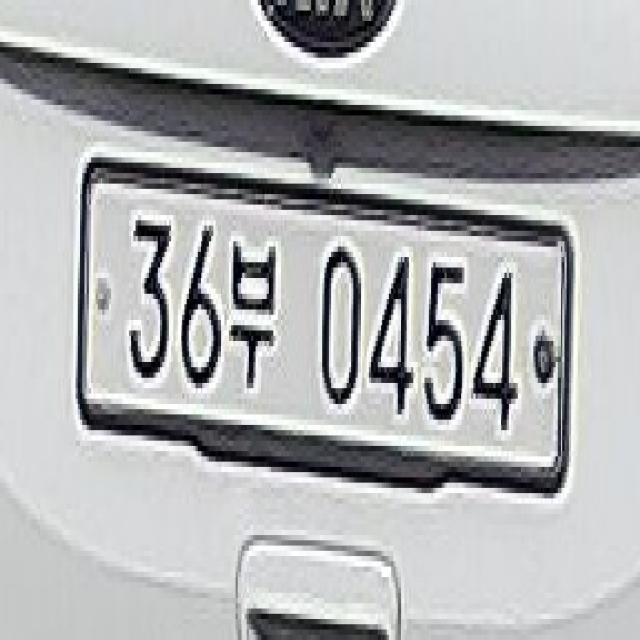0: (318, 241, 364, 404)
3: (129, 210, 173, 378)
4: (469, 268, 518, 440), (367, 252, 413, 419)
5: (422, 257, 467, 425)
6: (180, 220, 222, 388)
bu: (229, 220, 280, 388)
license_plate: (78, 163, 569, 498)
